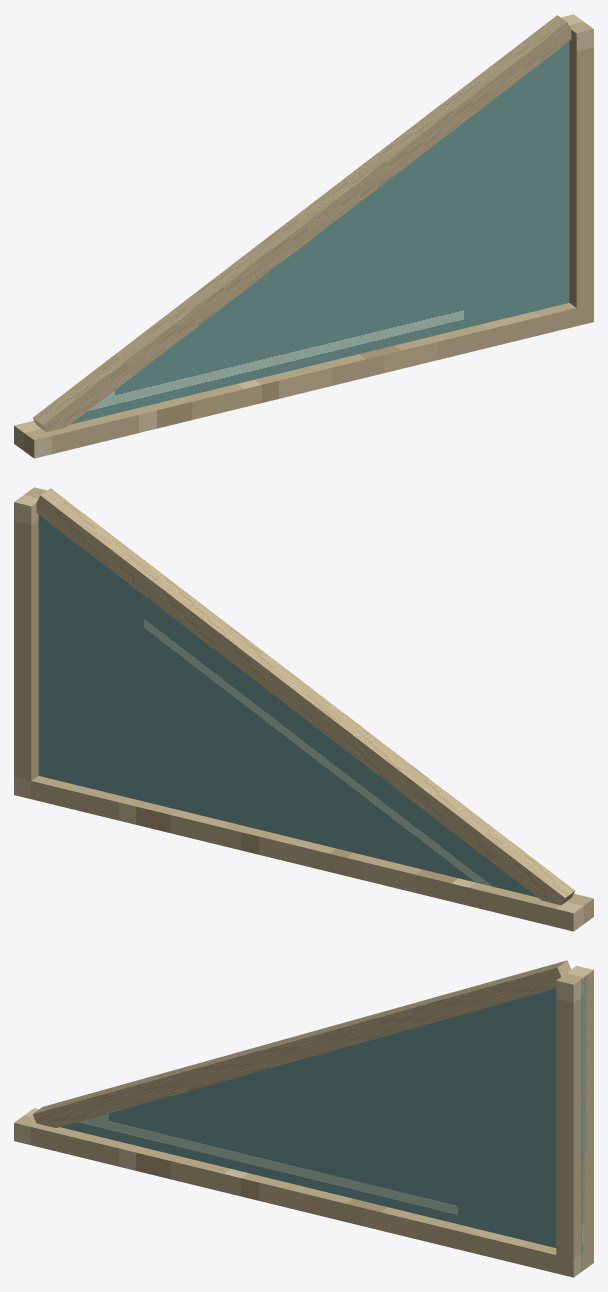
The model's file is atrium_end_triangle.gltf.
The picture shows the model from 3 angles, top to bottom: view 1: azimuth 30°, elevation 25°; view 2: azimuth 150°, elevation 25°; view 3: azimuth 330°, elevation 25°; orthographic projection.
Parts seen in each view (by area): view 1: glass_end, diagonal, base, upright; view 2: glass_end, diagonal, base, upright; view 3: glass_end, base, diagonal, upright.
Part boxes in pixels (box(x1,y1,x2,y2)): glass_end: box(70, 42, 569, 424); diagonal: box(33, 15, 571, 432); base: box(14, 303, 593, 458); upright: box(561, 14, 593, 324); glass_end: box(38, 515, 537, 897); diagonal: box(36, 488, 574, 905); base: box(14, 776, 593, 931); upright: box(14, 487, 46, 798); glass_end: box(60, 976, 586, 1271); base: box(14, 1108, 593, 1277); diagonal: box(32, 960, 571, 1127); upright: box(556, 965, 593, 1277).
Size of the model in its own units: 2 by 1.03 by 0.125.
2 materials, 2 textured.
